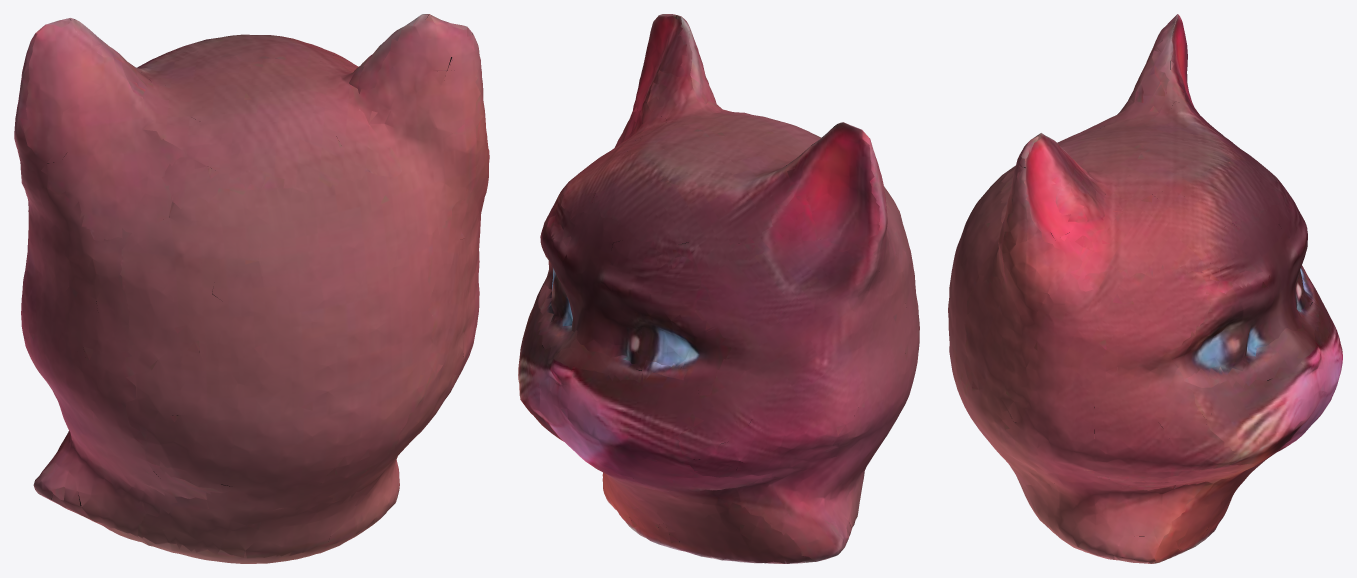
File: kittyface.glb
3 renders of one model, left to right at view 1: azimuth 30°, elevation 25°; view 2: azimuth 150°, elevation 25°; view 3: azimuth 270°, elevation 25°, orthographic. The views are drawn at different scales.
Visible parts, largest first — view 1: world; view 2: world; view 3: world.
Part boxes in pixels (x1,y1,x2,y2): world: (14, 14, 489, 563); world: (518, 14, 919, 563); world: (948, 14, 1342, 563).
Size of the model in its own units: 0.7425 by 0.9221 by 0.7447.
Materials: 1 (1 with a texture image).
